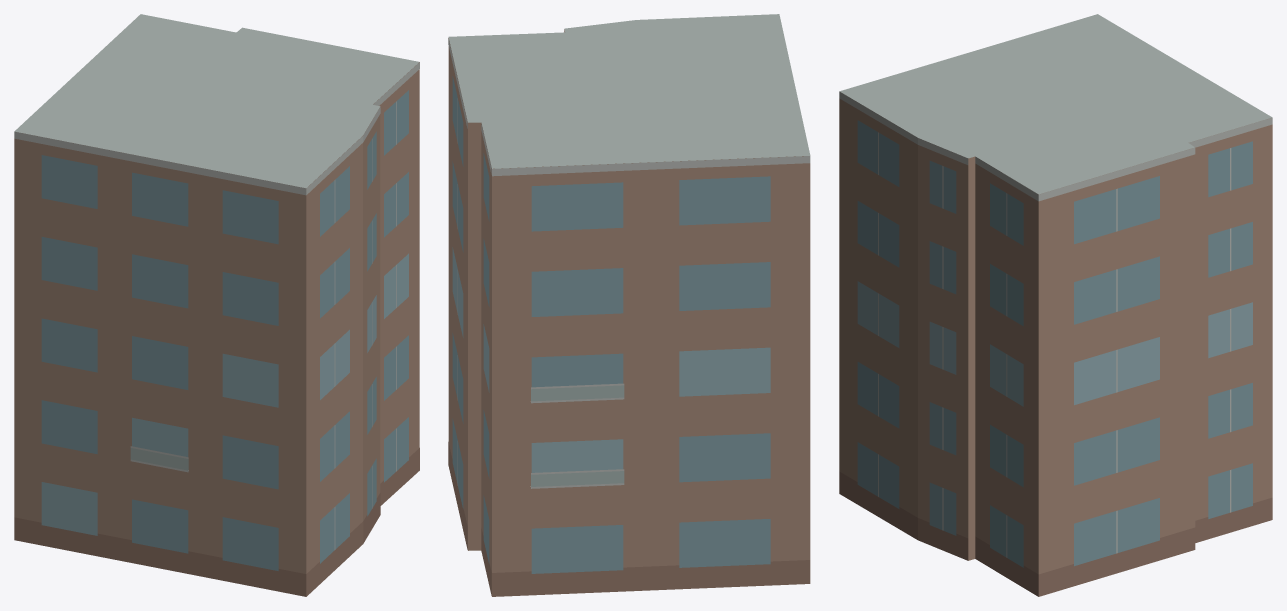
The model's file is survey-upis-32683315.glb.
The picture shows the model from 3 angles, left to right: view 1: azimuth 30°, elevation 25°; view 2: azimuth 150°, elevation 25°; view 3: azimuth 270°, elevation 25°; orthographic projection. The views are drawn at different scales.
Parts seen in each view (by area): view 1: survey-upis-32683315.tmp; view 2: survey-upis-32683315.tmp; view 3: survey-upis-32683315.tmp.
Boxes of the visible parts, left/top/right/bottom form: survey-upis-32683315.tmp: left=14, top=14, right=419, bottom=596; survey-upis-32683315.tmp: left=448, top=14, right=810, bottom=596; survey-upis-32683315.tmp: left=839, top=14, right=1272, bottom=596.
Bounding box in the file's own units: 13.57 × 14.1 × 13.77.
